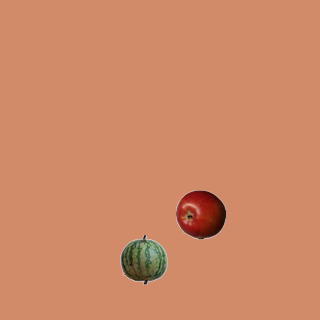Apple Braeburn: (175, 189, 225, 239)
Watermelon: (118, 234, 168, 284)
